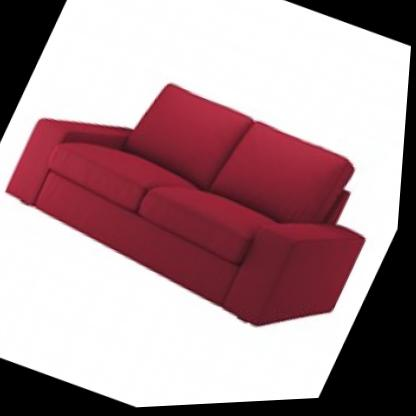Sofa: (0, 21, 414, 370)
